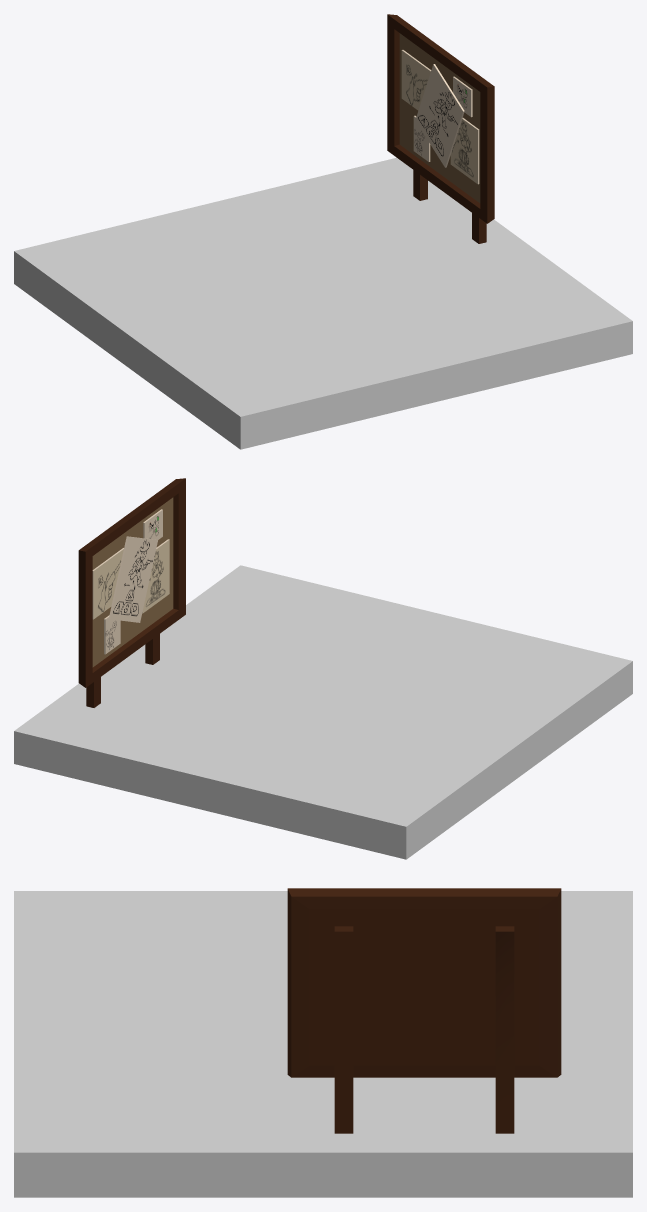
Rendered from spawntile.fbx.
The picture shows the model from 3 angles, top to bottom: view 1: azimuth 30°, elevation 25°; view 2: azimuth 150°, elevation 25°; view 3: azimuth 270°, elevation 25°; orthographic projection. The views are drawn at different scales.
Visible parts, largest first — view 1: Cube, Cube.008; view 2: Cube, Cube.008; view 3: Cube, Cube.008.
Part boxes in pixels (<box>): Cube: <box>14,157,632,449</box>; Cube.008: <box>387,14,494,243</box>; Cube: <box>14,565,632,859</box>; Cube.008: <box>78,478,185,707</box>; Cube: <box>14,891,632,1197</box>; Cube.008: <box>287,888,561,1133</box>.
Size of the model in its own units: 500 by 249 by 500.
2 materials, 1 textured.
